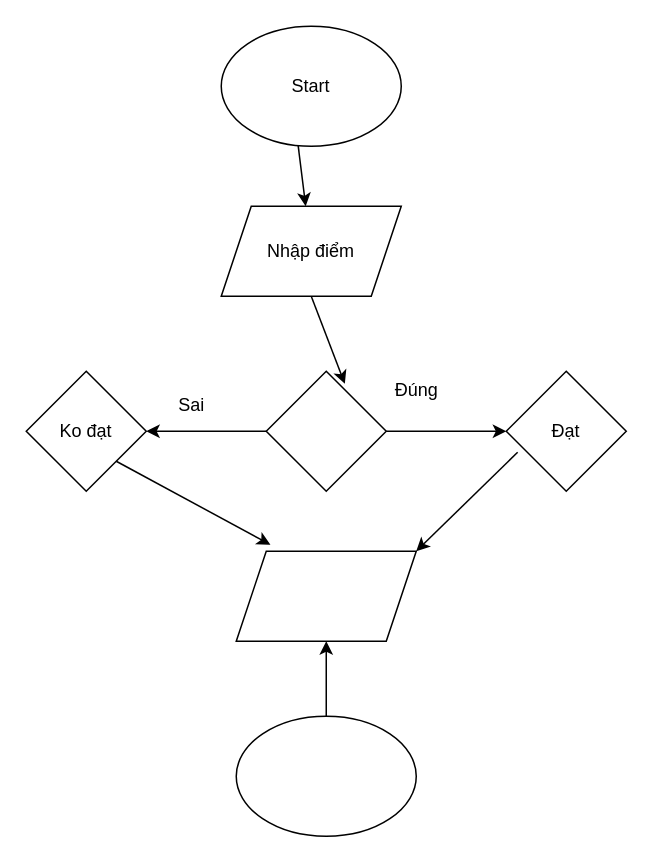
This 653x863 diagram has some shape labels left out. The shapes that lost their labels are listed below. From the top down, each one's box as (x1, y1, x2, y2) in pixels, then its label:
(265, 370, 386, 491): Điểm>5
(235, 550, 416, 641): Hiển thị kết quả
